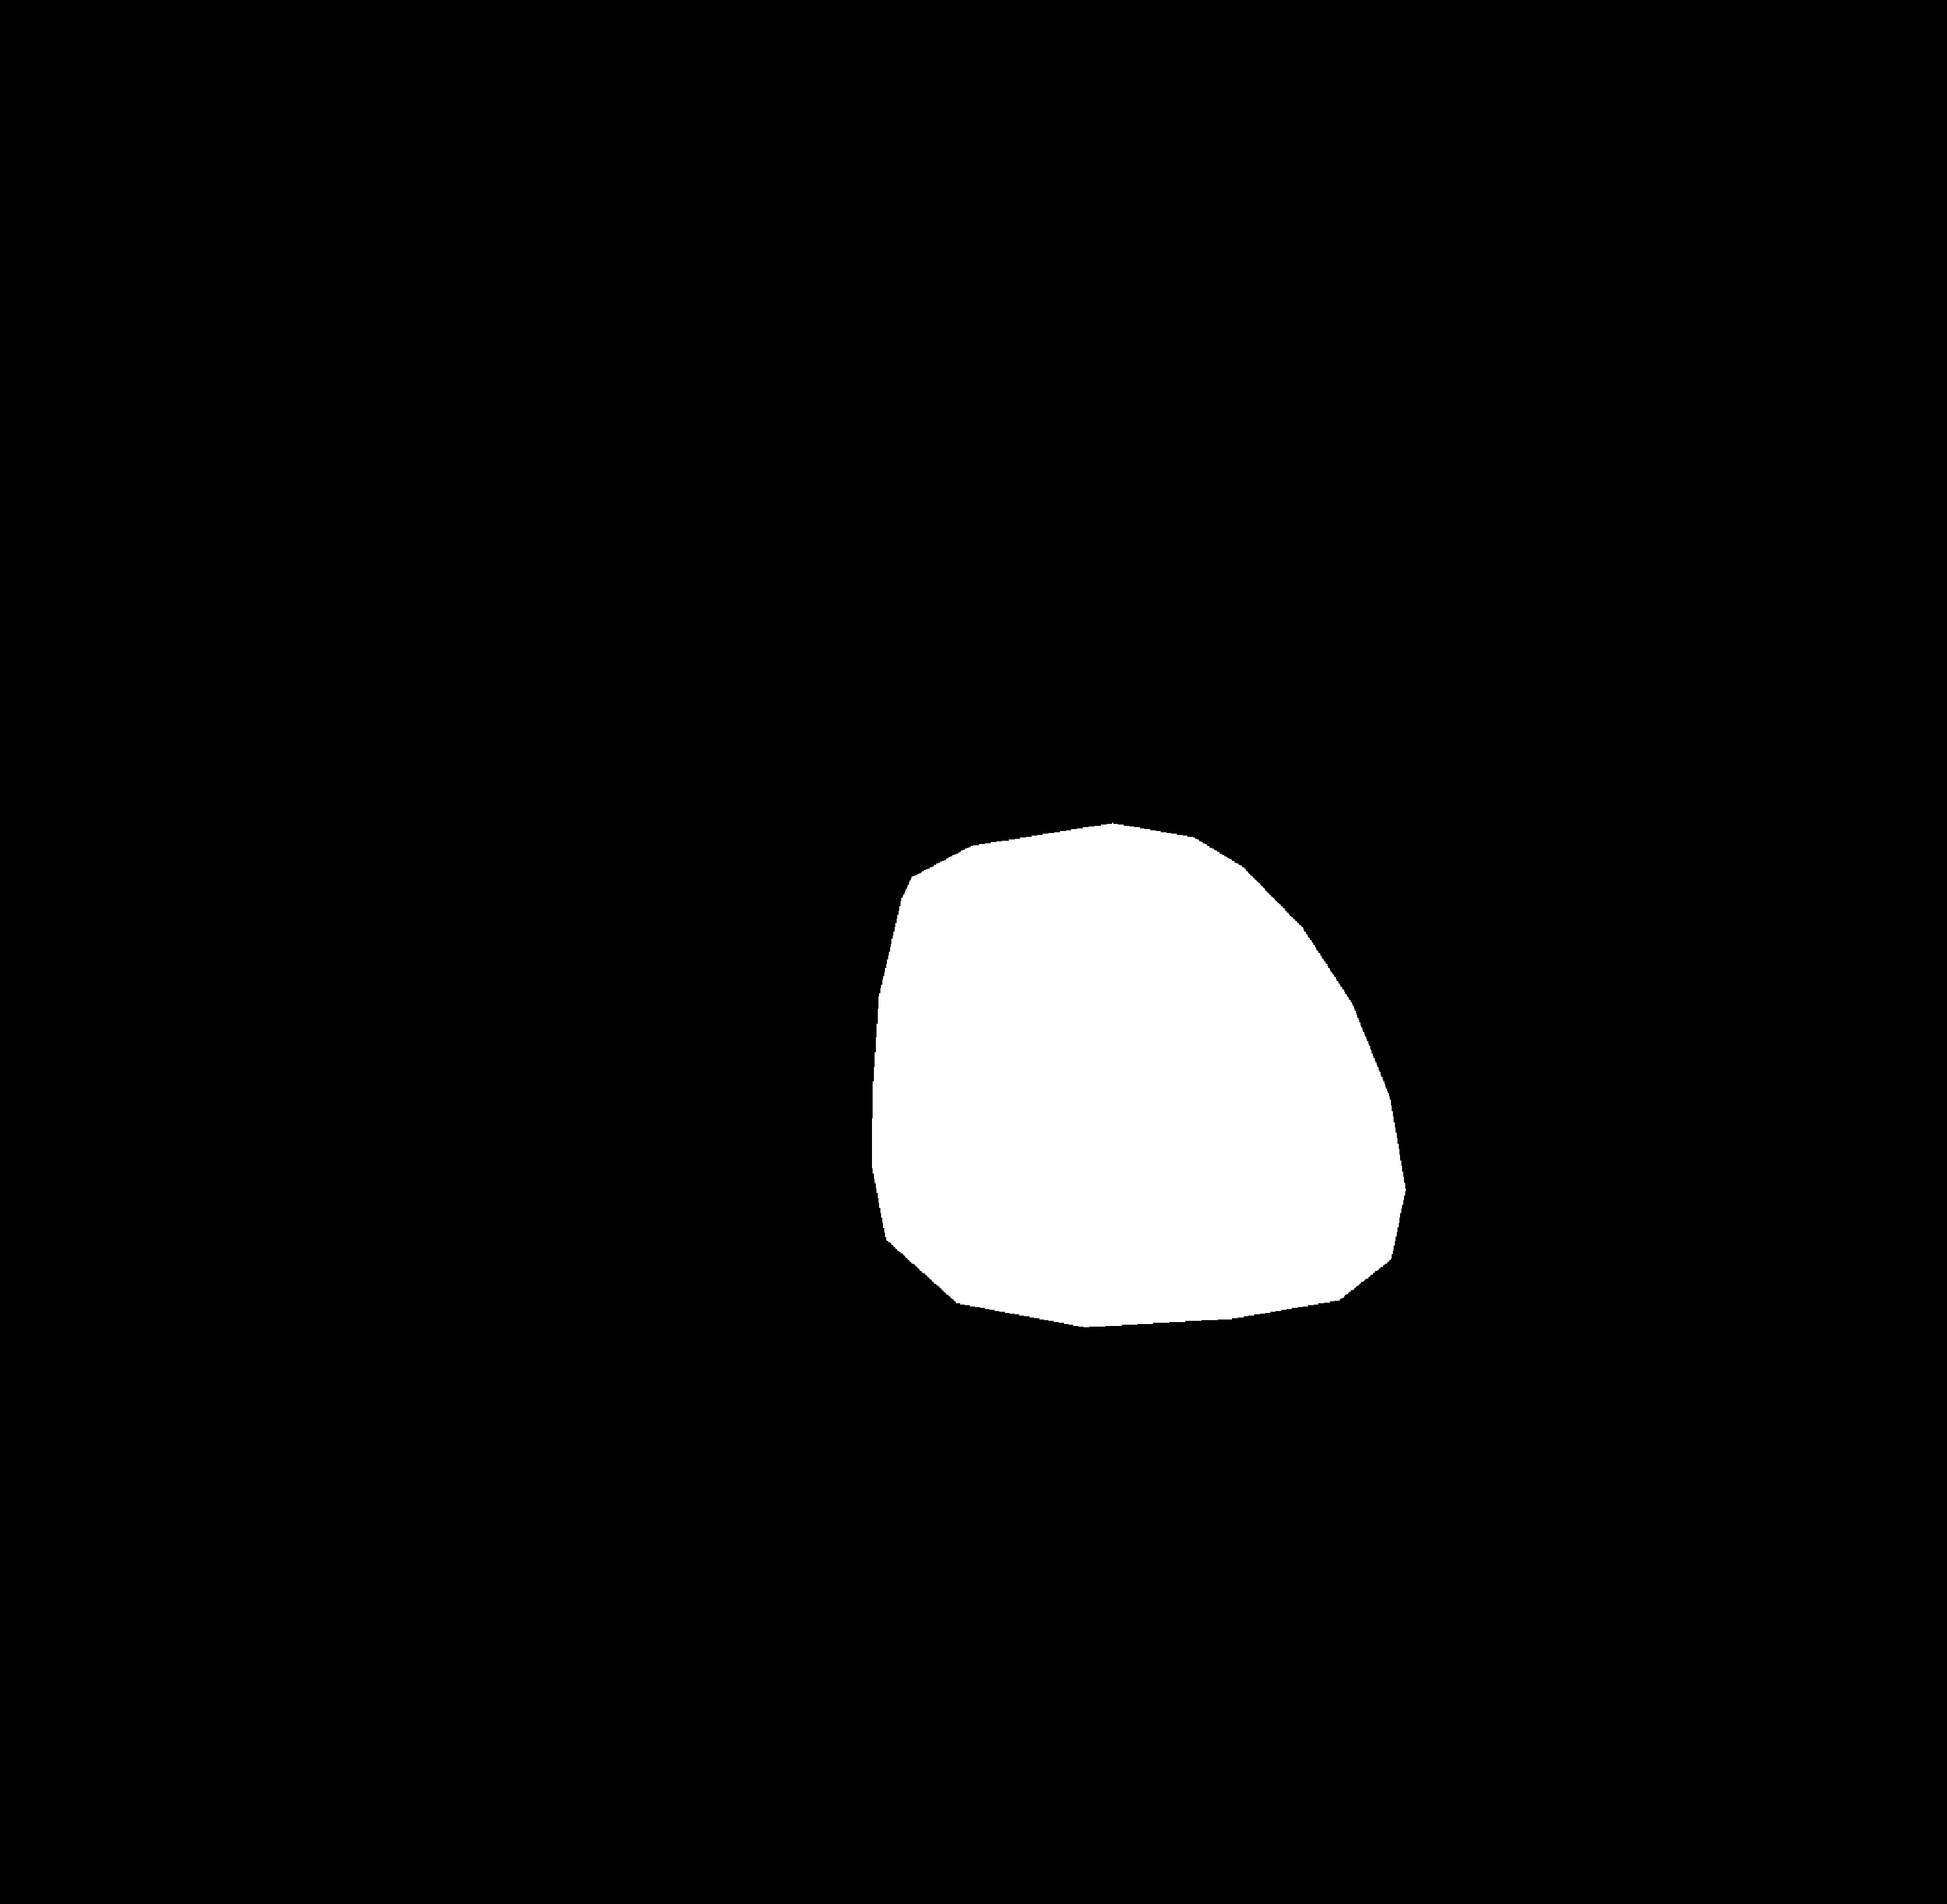heart: (868, 870, 1412, 1316)
left_lung: (335, 197, 901, 1498)
right_lung: (1021, 183, 1696, 1405)
